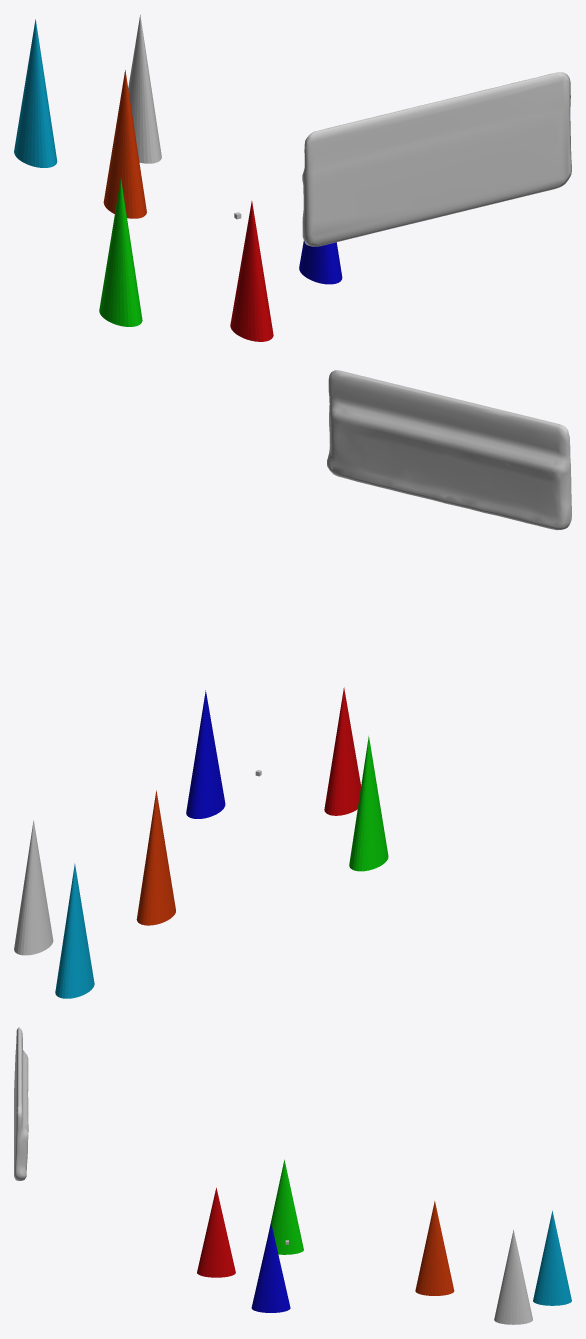
The picture shows the model from 3 angles, top to bottom: view 1: azimuth 30°, elevation 25°; view 2: azimuth 150°, elevation 25°; view 3: azimuth 270°, elevation 25°; orthographic projection. The views are drawn at different scales.
Visible parts, largest first — view 1: Liquid_Domain, 円錐.003, 円錐.005, 円錐.001, 円錐.004, 円錐, 円錐.002; view 2: Liquid_Domain, 円錐.005, 円錐, 円錐.003, 円錐.004, 円錐.002, 円錐.001; view 3: Liquid_Domain, 円錐.005, 円錐, 円錐.004, 円錐.001, 円錐.002, 円錐.003.
Boxes of the visible parts, <box> form: Liquid_Domain: <box>302,72,571,246</box>; 円錐.003: <box>99,178,142,326</box>; 円錐.005: <box>14,19,57,167</box>; 円錐.001: <box>230,201,273,341</box>; 円錐.004: <box>103,70,146,218</box>; 円錐: <box>128,15,161,163</box>; 円錐.002: <box>299,241,342,284</box>; Liquid_Domain: <box>327,370,571,530</box>; 円錐.005: <box>55,863,94,998</box>; 円錐: <box>14,820,53,955</box>; 円錐.003: <box>349,736,388,871</box>; 円錐.004: <box>136,790,175,925</box>; 円錐.002: <box>186,690,225,818</box>; 円錐.001: <box>324,687,360,815</box>; Liquid_Domain: <box>14,1027,28,1180</box>; 円錐.005: <box>533,1210,571,1305</box>; 円錐: <box>494,1230,532,1324</box>; 円錐.004: <box>415,1201,454,1295</box>; 円錐.001: <box>197,1187,235,1277</box>; 円錐.002: <box>251,1223,290,1312</box>; 円錐.003: <box>270,1159,303,1254</box>.
Size of the model in its own units: 124 by 157 by 343.
